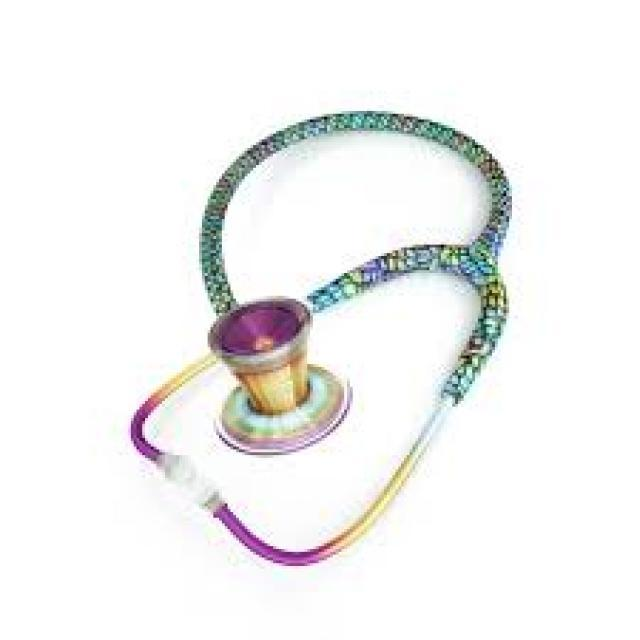stethoscope: (119, 51, 517, 576)
